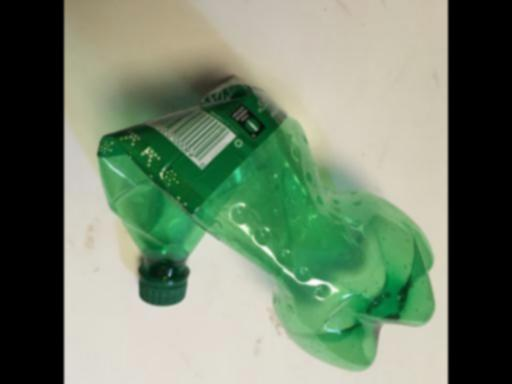PET: (97, 74, 437, 372)
plastic: (97, 74, 437, 372)
soft-drink: (97, 74, 437, 372)
sprite: (97, 74, 437, 372)
